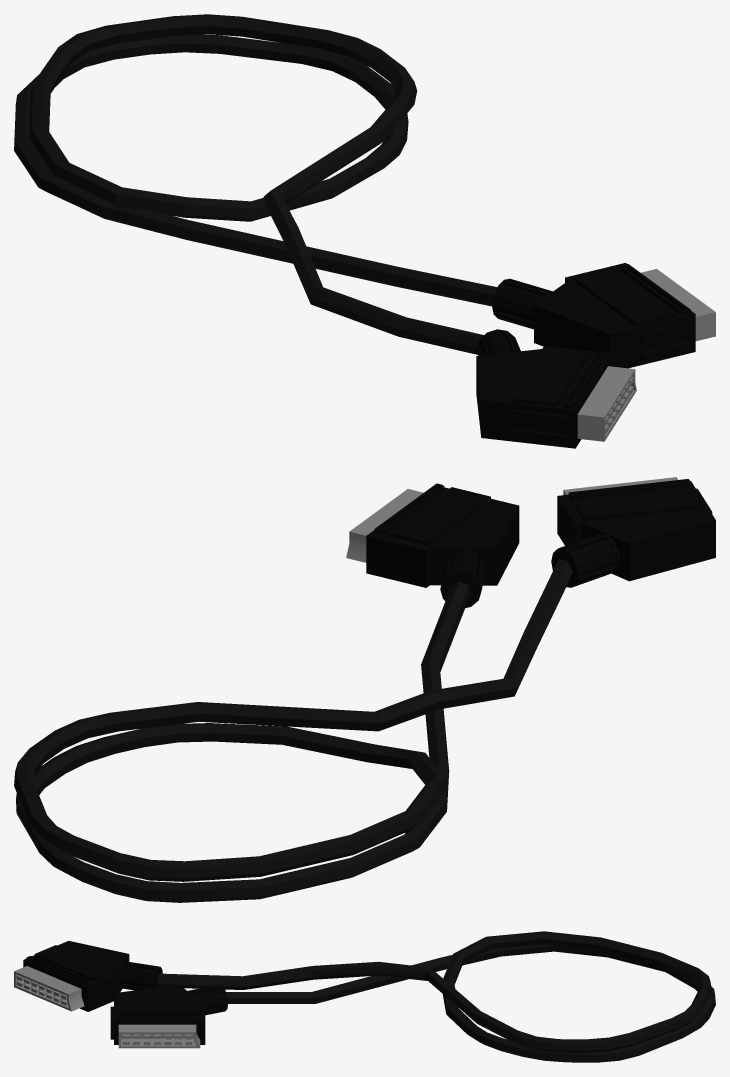
File: Cable_01.glb
3 views of the same model, one above another, from view 1: azimuth 30°, elevation 25°; view 2: azimuth 150°, elevation 25°; view 3: azimuth 270°, elevation 25° (orthographic). The views are drawn at different scales.
Parts seen in each view (by area): view 1: Mesh_Cable_01; view 2: Mesh_Cable_01; view 3: Mesh_Cable_01.
Boxes of the visible parts, left/top/right/bottom form: Mesh_Cable_01: left=14, top=14, right=715, bottom=448; Mesh_Cable_01: left=14, top=477, right=715, bottom=902; Mesh_Cable_01: left=14, top=931, right=715, bottom=1062.
Bounding box in the file's own units: 0.153 × 0.0202 × 0.3834.
Materials: 1 (1 with a texture image).
